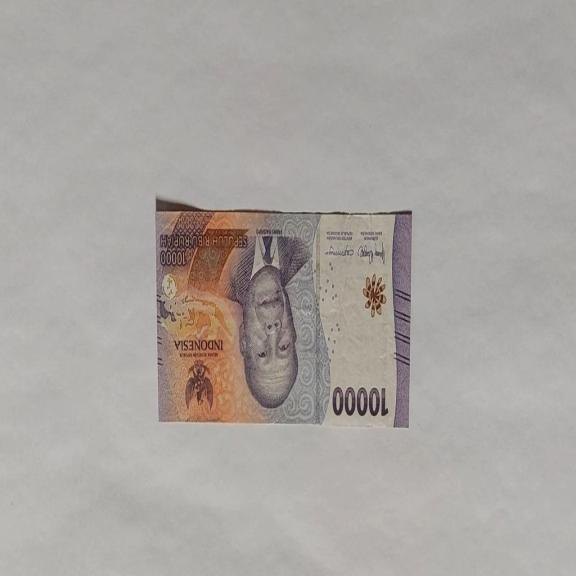Kertas: (155, 201, 412, 427)
